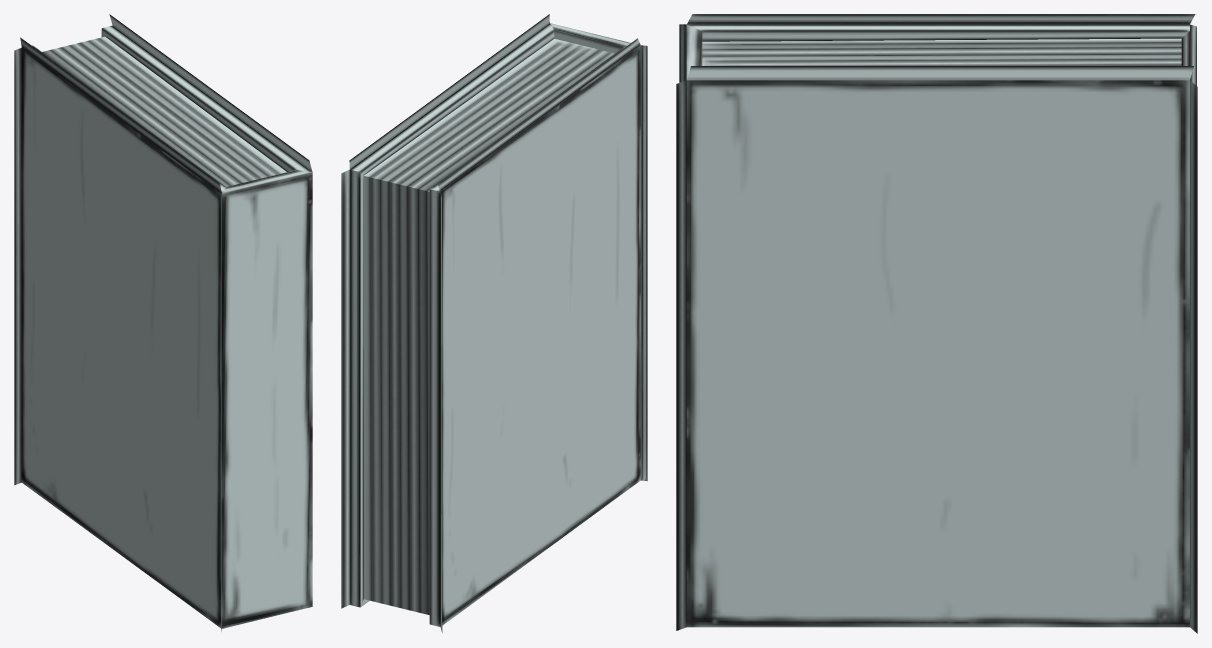
Rendered from Book.fbx.
The picture shows the model from 3 angles, left to right: view 1: azimuth 30°, elevation 25°; view 2: azimuth 150°, elevation 25°; view 3: azimuth 270°, elevation 25°; orthographic projection. The views are drawn at different scales.
Parts seen in each view (by area): view 1: book; view 2: book; view 3: book.
Part boxes in pixels (<box>): book: <box>14,14,312,631</box>; book: <box>341,14,647,632</box>; book: <box>676,14,1197,633</box>.
Bounding box in the file's own units: 7.23 × 30.99 × 25.83.
